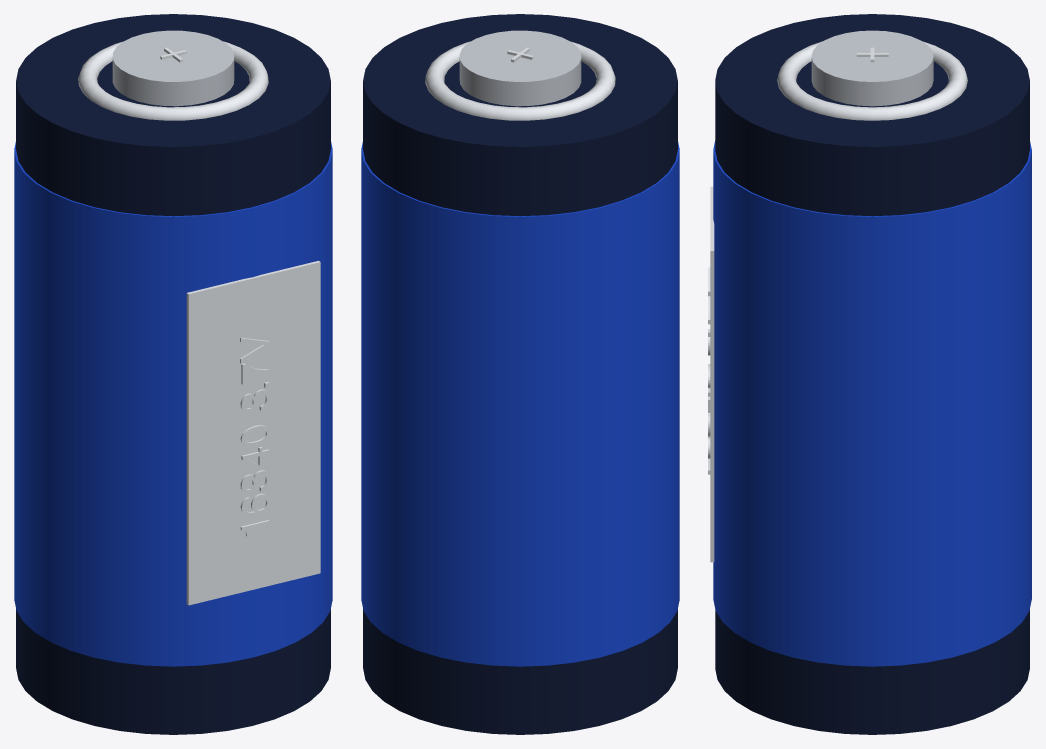
Rendered from cell_16340.glb.
3 views of the same model, side by side, from view 1: azimuth 30°, elevation 25°; view 2: azimuth 150°, elevation 25°; view 3: azimuth 270°, elevation 25° (orthographic).
Parts seen in each view (by area): view 1: Cell16340; view 2: Cell16340; view 3: Cell16340.
Boxes of the visible parts, left/top/right/bottom form: Cell16340: left=14, top=14, right=332, bottom=734; Cell16340: left=361, top=14, right=679, bottom=734; Cell16340: left=708, top=14, right=1031, bottom=734.
Bounding box in the file's own units: 16.7 × 35.95 × 16.97.
